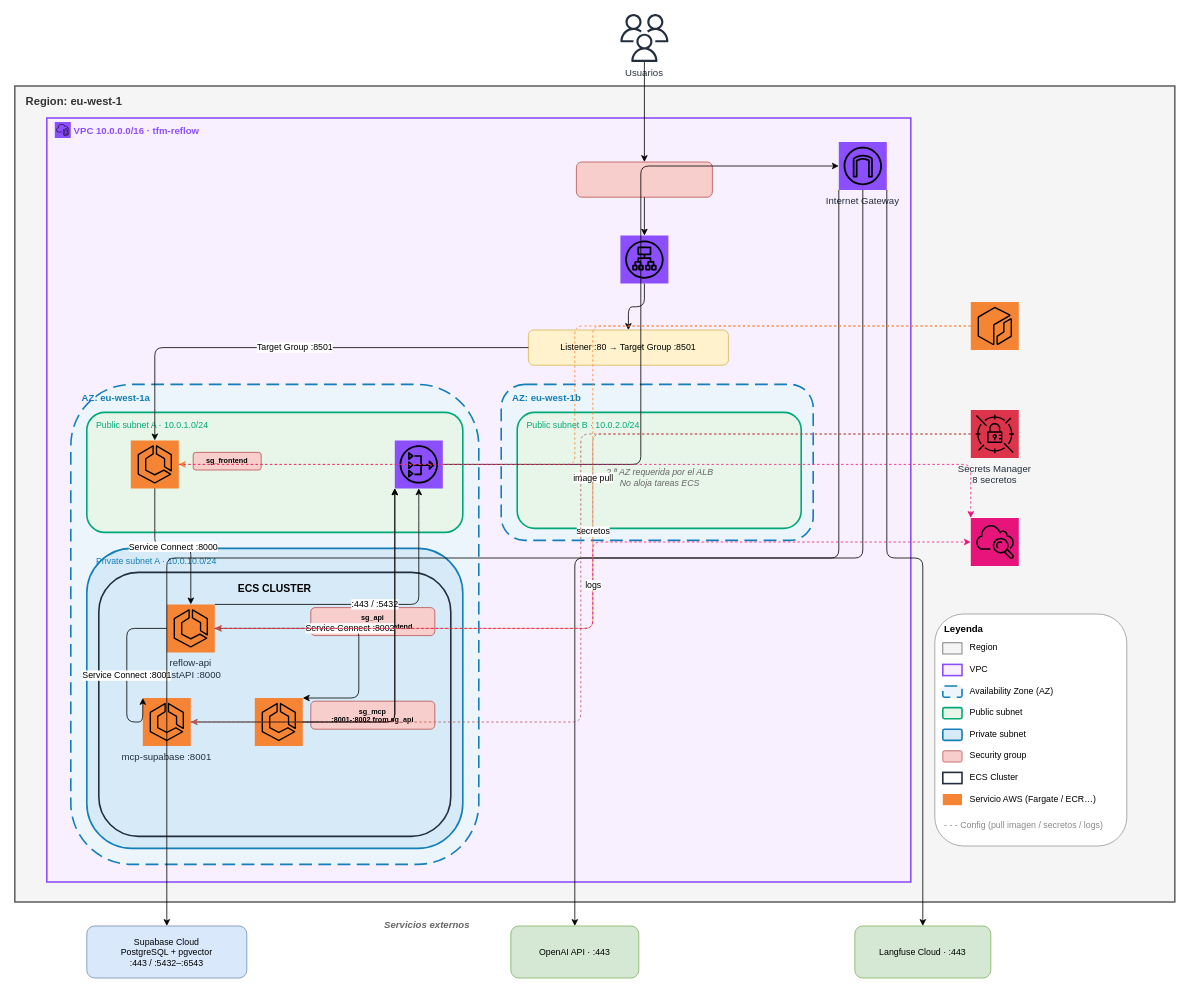
Image size: 1189x992. Some labels were removed from this diagram. The box of each missing label's shape, as (x1, y1, x2, y2) in pixels:
Application Load Balancer: (620, 235, 668, 283)
CloudWatch Logs: (970, 518, 1018, 566)
ECR 3 repos: (970, 302, 1018, 350)
mcp-logistics :8002: (254, 698, 302, 746)
NAT Gateway + Elastic IP: (394, 440, 442, 488)
reflow-frontend Streamlit :8501 assign_public_ip=true: (130, 440, 178, 488)
sg_alb · HTTP :80: (576, 161, 712, 197)
